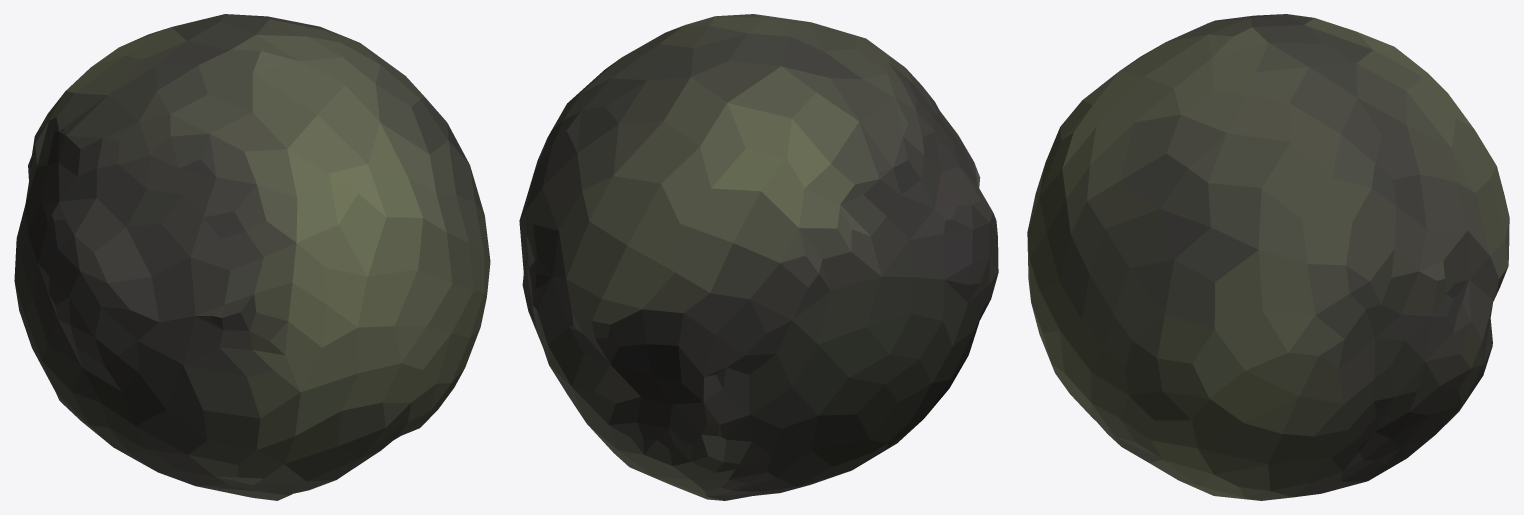
File: zeometry-organic-forms-lumpy-sphere_v11.glb
3 views of the same model, side by side, from view 1: azimuth 30°, elevation 25°; view 2: azimuth 150°, elevation 25°; view 3: azimuth 270°, elevation 25° (orthographic).
Parts seen in each view (by area): view 1: Lumpy Sphere_v11; view 2: Lumpy Sphere_v11; view 3: Lumpy Sphere_v11.
Boxes of the visible parts, box(x1,y1,x2,y2) form: Lumpy Sphere_v11: box(14, 14, 490, 500); Lumpy Sphere_v11: box(519, 14, 998, 500); Lumpy Sphere_v11: box(1027, 14, 1509, 500).
Bounding box in the file's own units: 0.4954 × 0.5 × 0.4971.
